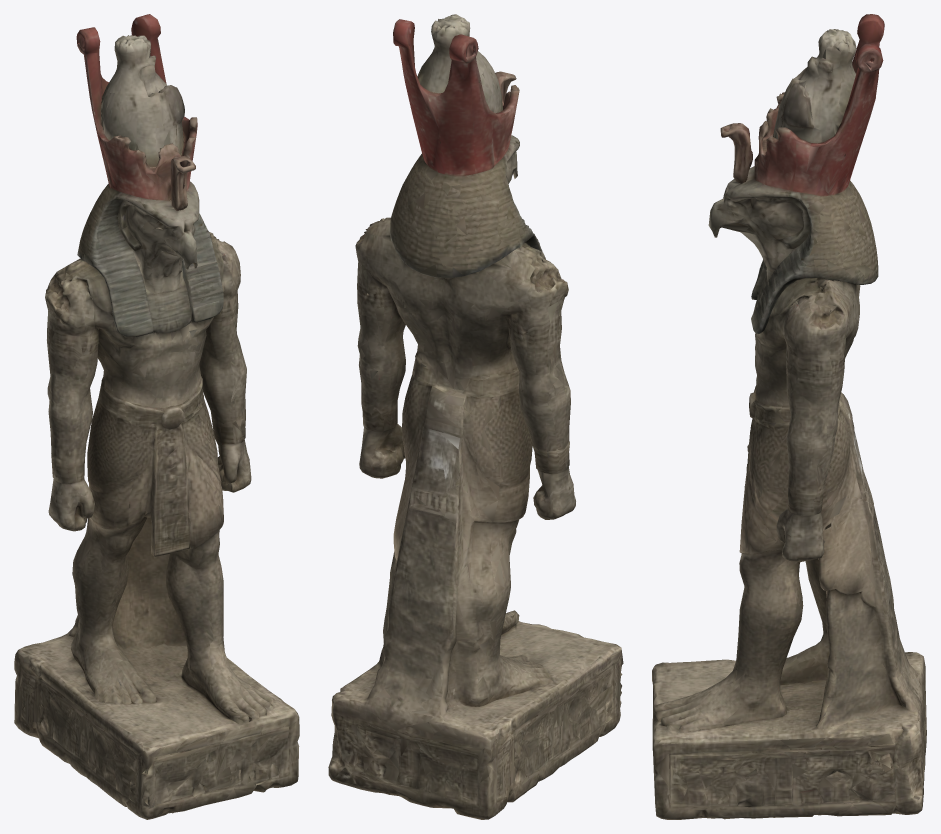
The model's file is statue_horus.glb.
The picture shows the model from 3 angles, left to right: view 1: azimuth 30°, elevation 25°; view 2: azimuth 150°, elevation 25°; view 3: azimuth 270°, elevation 25°; orthographic projection. The views are drawn at different scales.
Visible parts, largest first — view 1: prop; view 2: prop; view 3: prop.
Boxes of the visible parts, <box> form: prop: <box>14,14,299,819</box>; prop: <box>328,14,623,819</box>; prop: <box>652,14,926,819</box>.
Size of the model in its own units: 1.14 by 4 by 1.33.
1 material, 1 textured.
